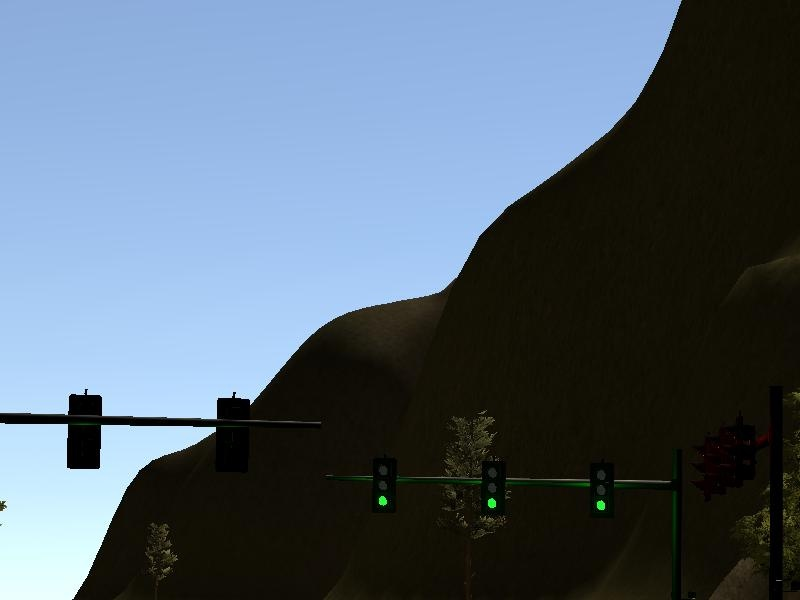Green: (589, 462, 615, 519), (371, 457, 397, 513), (481, 461, 505, 514)
